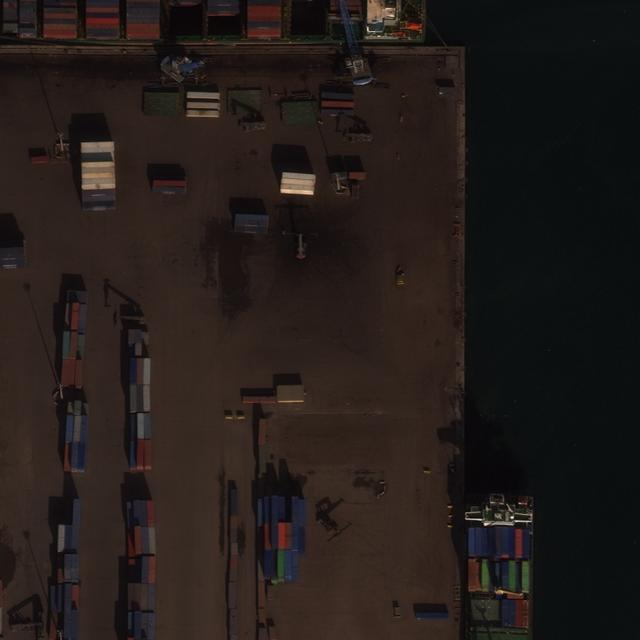Container Ship: (1, 1, 425, 45), (466, 493, 533, 639)
